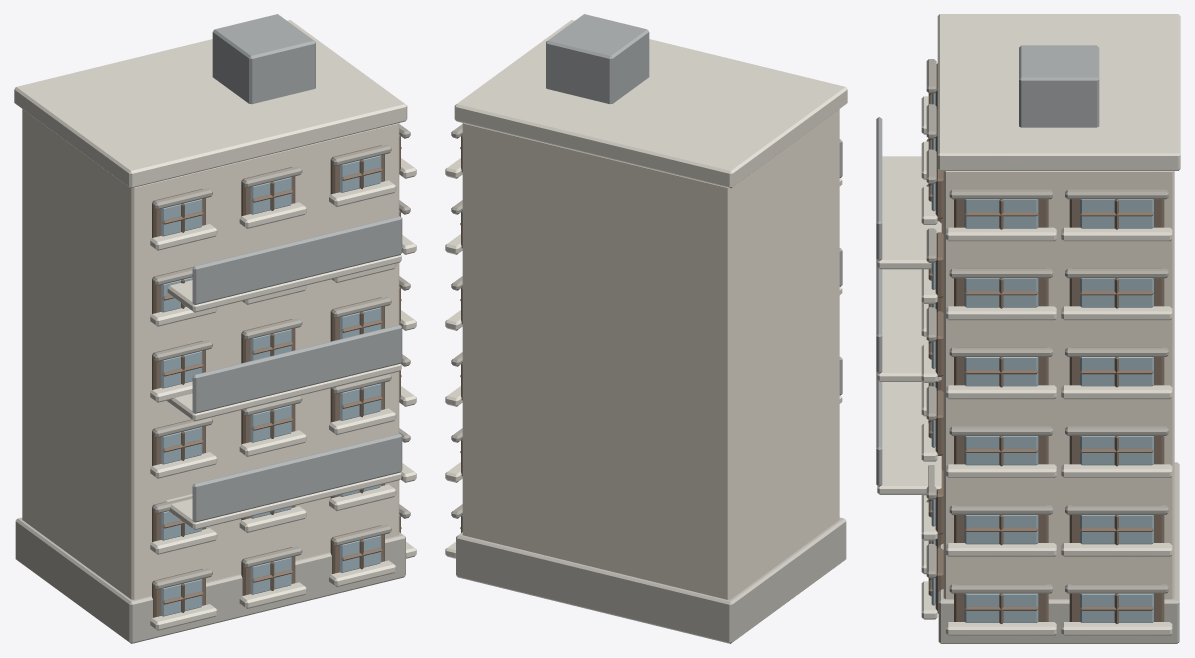
File: apartment_a.glb
3 views of the same model, side by side, from view 1: azimuth 30°, elevation 25°; view 2: azimuth 150°, elevation 25°; view 3: azimuth 270°, elevation 25° (orthographic). The views are drawn at different scales.
Parts seen in each view (by area): view 1: wall, parapet, skirt, railing, railing.002, railing.001, roofbox, balcony, balcony.002, balcony.001, wglass.016, wglass.001 (+32 smaller); view 2: wall, parapet, skirt, roofbox; view 3: wall, parapet, roofbox, balcony, balcony.002, balcony.001, skirt, wglass.018, wglass.028, wglass.026, wglass.020, wglass.022 (+56 smaller).
Part boxes in pixels (x1,y1,x2,y2): wall: (22,109,399,599); parapet: (14,20,407,188); skirt: (15,517,405,643); railing: (192,433,402,522); railing.002: (192,216,402,304); railing.001: (192,325,402,413); roofbox: (212,14,315,104); balcony: (164,472,401,529); balcony.002: (167,255,401,312); balcony.001: (166,363,401,421); wglass.016: (250,177,291,214); wglass.001: (250,557,291,594); wall: (462,109,839,599); parapet: (454,20,847,188); skirt: (456,517,846,643); roofbox: (546,14,649,104); wall: (943,171,1174,599); parapet: (937,14,1180,170); roofbox: (1019,45,1099,127); balcony: (877,382,941,494); balcony.002: (877,156,941,269); balcony.001: (877,269,941,381); skirt: (938,462,1179,643); wglass.018: (964,593,1038,622); wglass.028: (964,199,1038,228); wglass.026: (964,278,1038,307); wglass.020: (964,515,1038,544); wglass.022: (964,436,1038,465).
Size of the model in its own units: 1.74 by 2.97 by 1.51.
